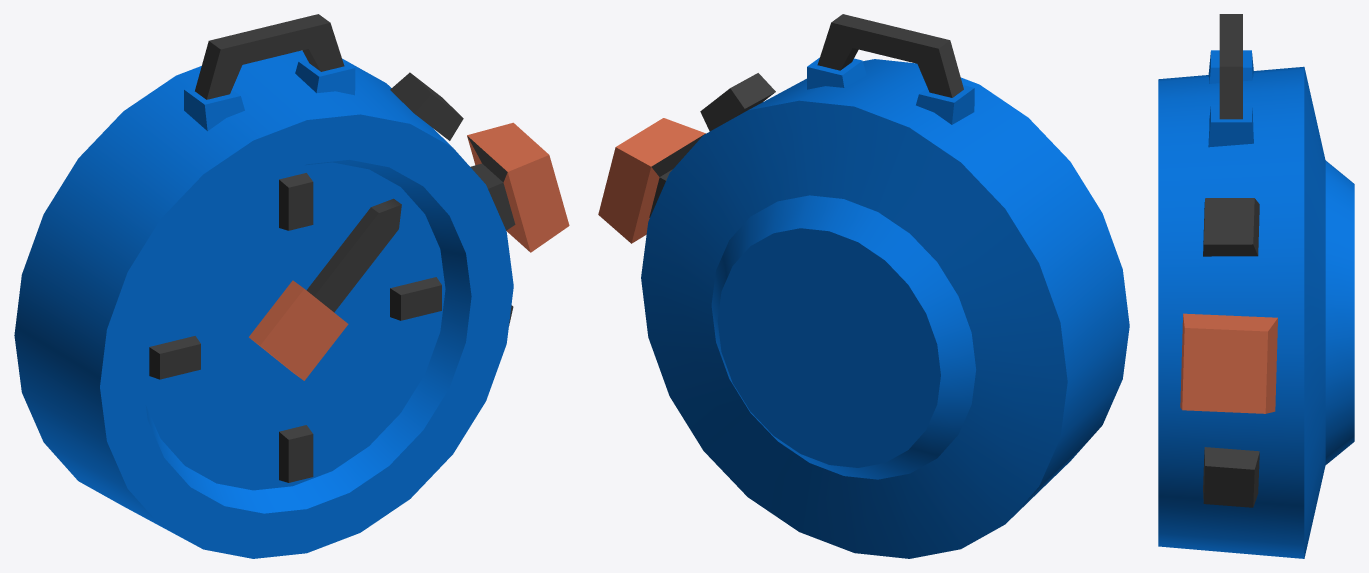
The model's file is crono.fbx.
The picture shows the model from 3 angles, left to right: view 1: azimuth 30°, elevation 25°; view 2: azimuth 150°, elevation 25°; view 3: azimuth 270°, elevation 25°; orthographic projection. The views are drawn at different scales.
Visible parts, largest first — view 1: crono; view 2: crono; view 3: crono.
Boxes of the visible parts, x1,y1,x2,y2 form: crono: (14,14,569,558); crono: (598,14,1129,558); crono: (1158,14,1354,558).
Size of the model in its own units: 0.855 by 0.8274 by 0.2964.
